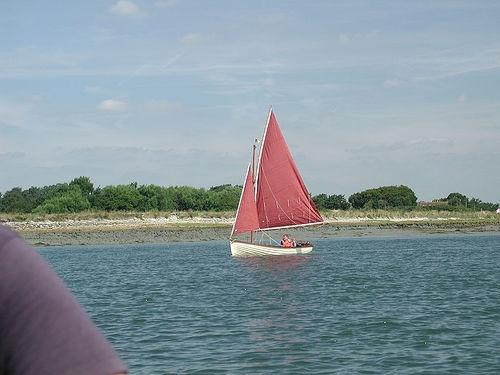Ship: (229, 106, 325, 259)
